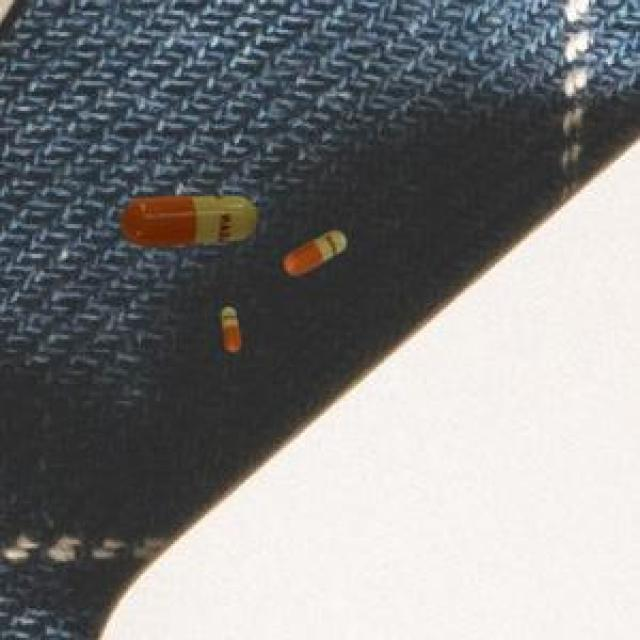Alaxan: (107, 174, 267, 259), (278, 223, 350, 291), (212, 297, 248, 358)
